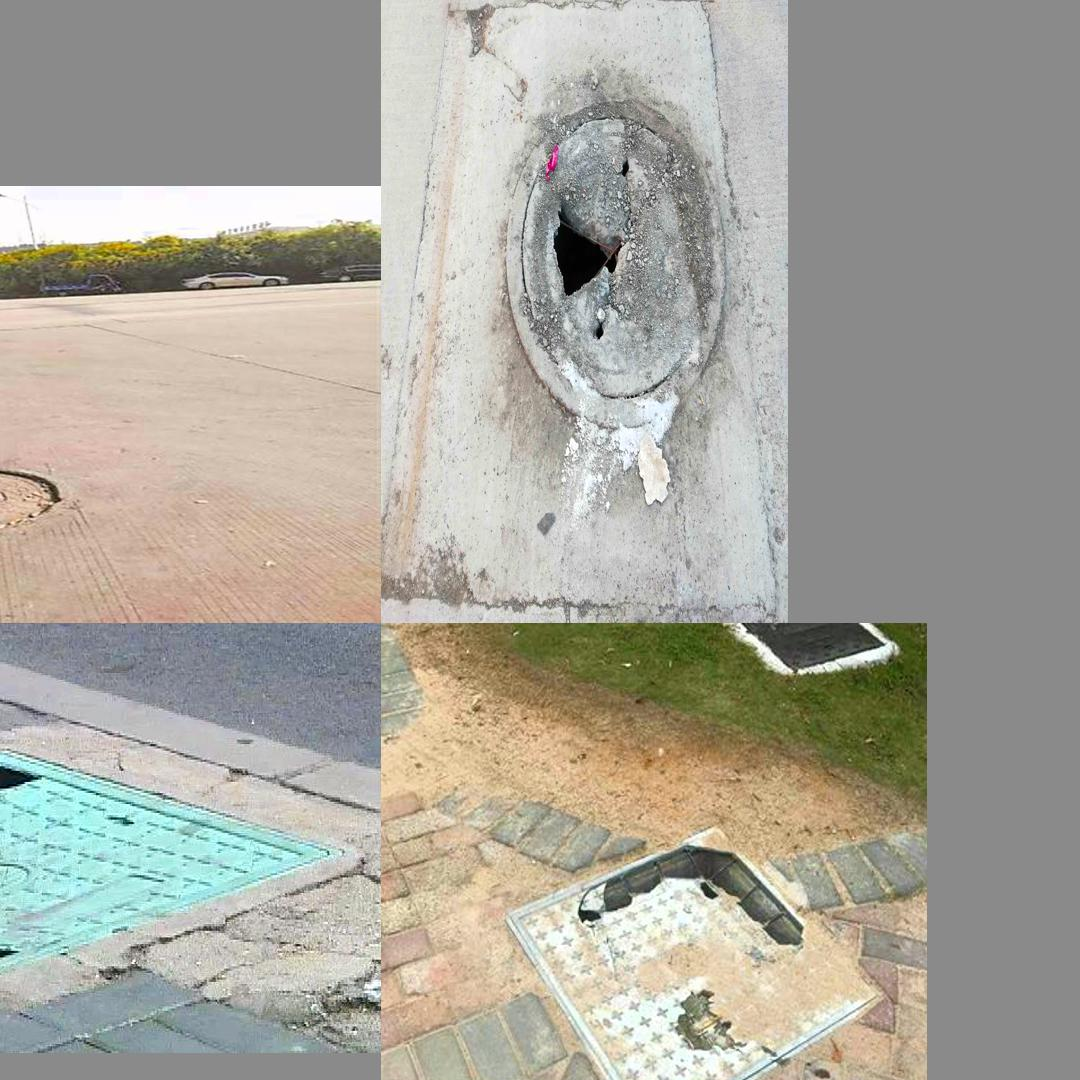broke: (498, 807, 871, 1080), (0, 728, 341, 994), (505, 103, 726, 425), (0, 452, 85, 553)
